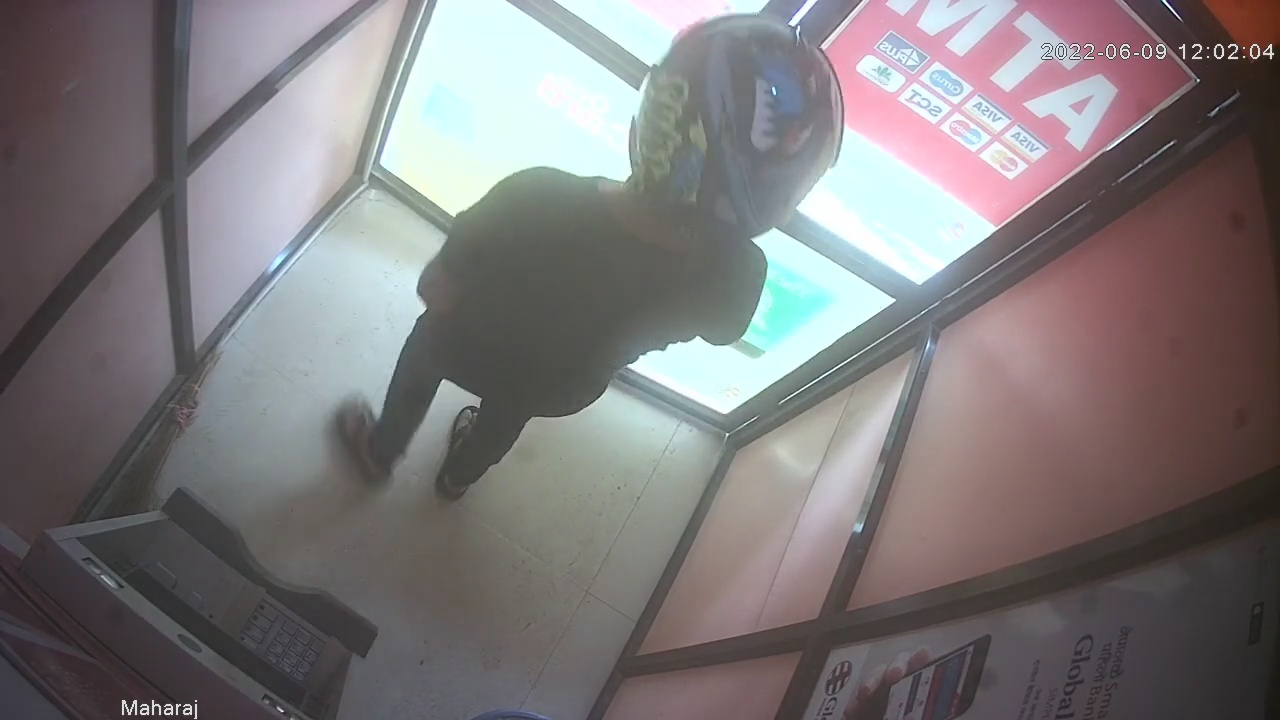helmet: (624, 11, 844, 236)
person: (335, 11, 845, 506)
